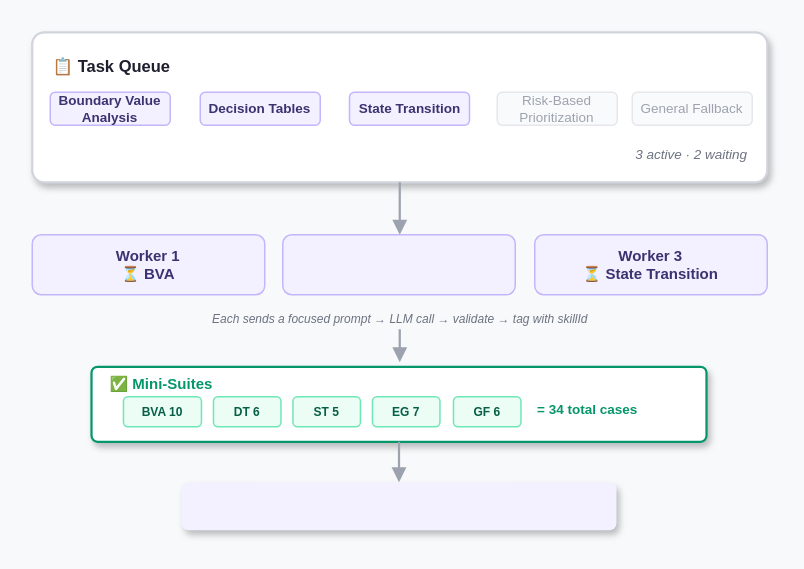
This 804x569 diagram has some shape labels left out. Here are the shapes that lost their labels. From the top down, the centre of each, then its label:
At (x=398, y=264): "Worker 2 ⏳ Decision Tables".
At (x=400, y=507): "🔀 Merge + Dedup → Final Suite".
